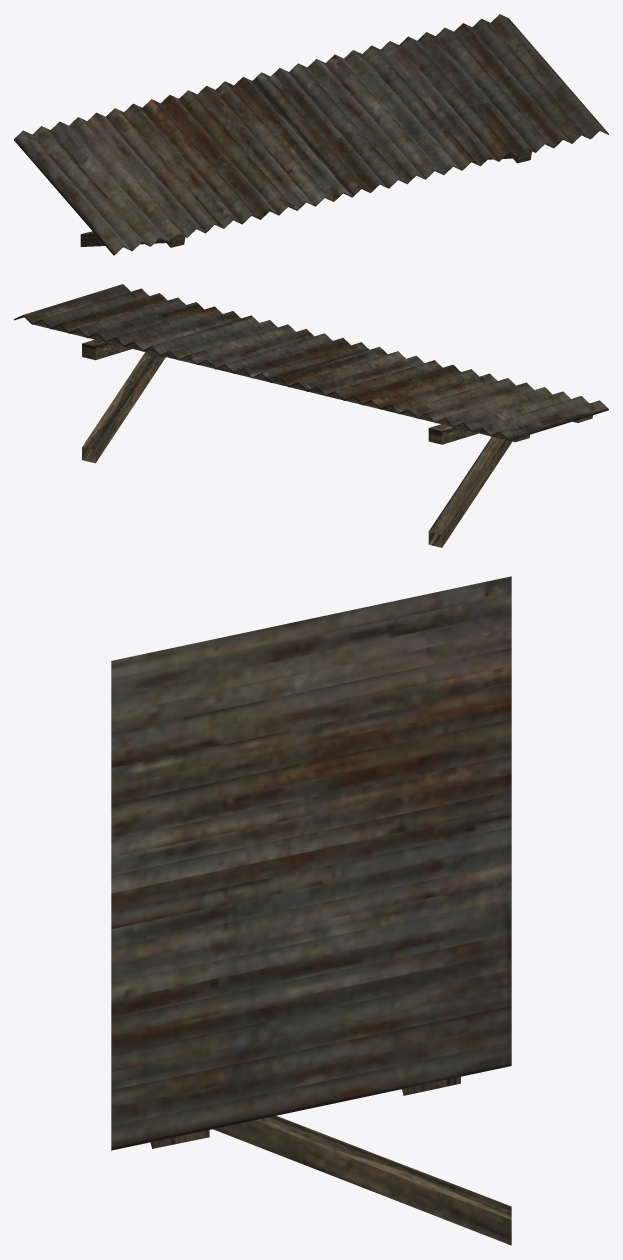
Rendered from roof_small_hr_3.obj.
The picture shows the model from 3 angles, top to bottom: view 1: azimuth 30°, elevation 25°; view 2: azimuth 150°, elevation 25°; view 3: azimuth 270°, elevation 25°; orthographic projection. The views are drawn at different scales.
Parts seen in each view (by area): view 1: roof_small_hr_3; view 2: roof_small_hr_3; view 3: roof_small_hr_3.
Boxes of the visible parts, left/top/right/bottom form: roof_small_hr_3: left=14, top=14, right=608, bottom=255; roof_small_hr_3: left=14, top=284, right=608, bottom=547; roof_small_hr_3: left=111, top=576, right=511, bottom=1245.
Size of the model in its own units: 4 by 1.01 by 1.4.
